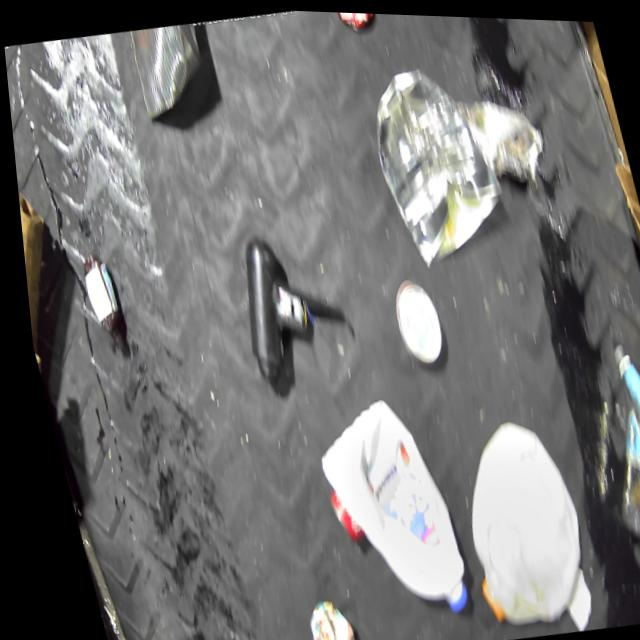can: (351, 44, 517, 272), (453, 81, 555, 190), (123, 19, 221, 130), (382, 275, 446, 370), (288, 589, 349, 640), (334, 10, 382, 34)
milk_jug: (297, 386, 470, 625), (429, 403, 594, 633)
